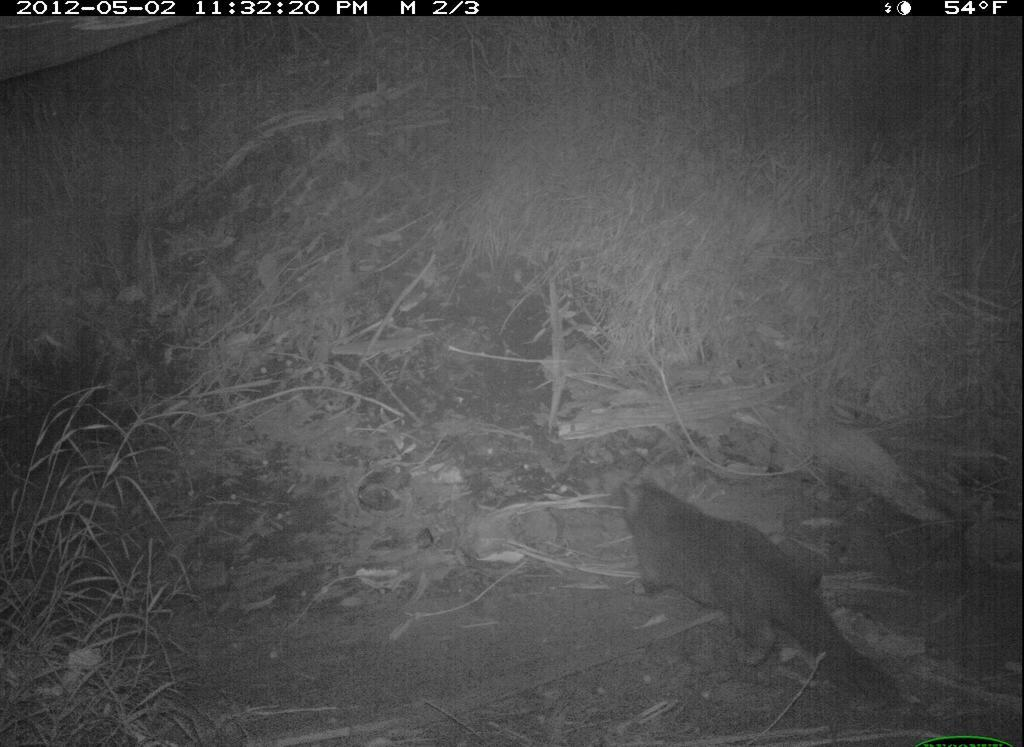cat: (616, 464, 895, 698)
